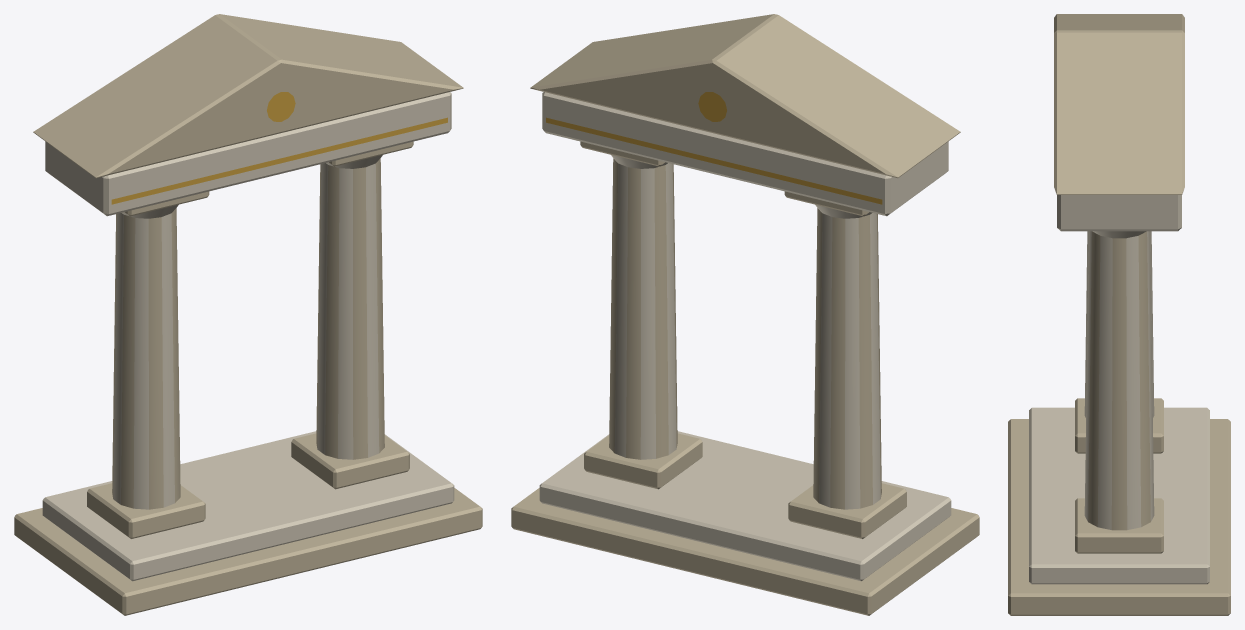
Rendered from museum-deco2.glb.
The picture shows the model from 3 angles, left to right: view 1: azimuth 30°, elevation 25°; view 2: azimuth 150°, elevation 25°; view 3: azimuth 270°, elevation 25°; orthographic projection.
Parts seen in each view (by area): view 1: museum-deco2; view 2: museum-deco2; view 3: museum-deco2.
Part boxes in pixels (x1,y1,x2,y2): museum-deco2: [14, 14, 482, 615]; museum-deco2: [511, 14, 979, 615]; museum-deco2: [1008, 14, 1230, 615].
Bounding box in the file's own units: 3.06 × 3.94 × 1.6.
